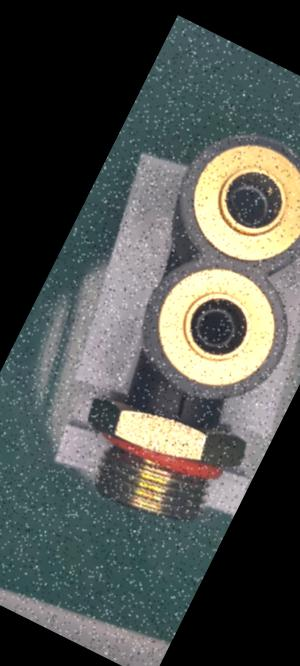craze: (168, 388, 195, 422)
off-centered: (214, 170, 287, 238)
